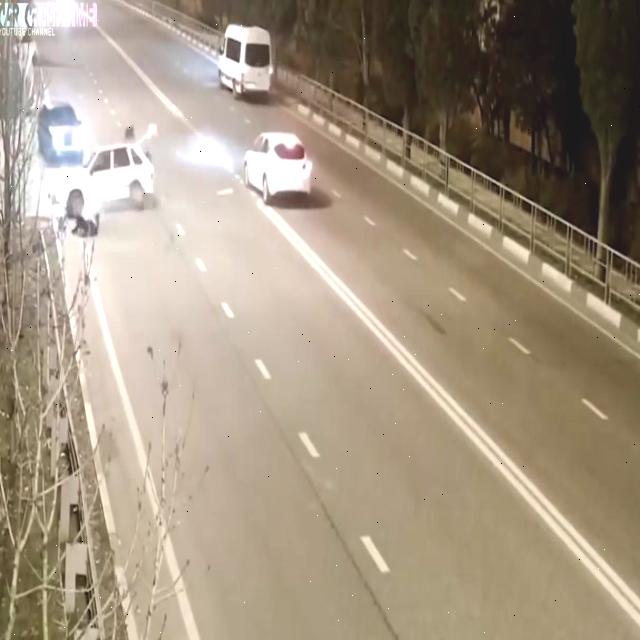accident: (48, 123, 173, 242)
